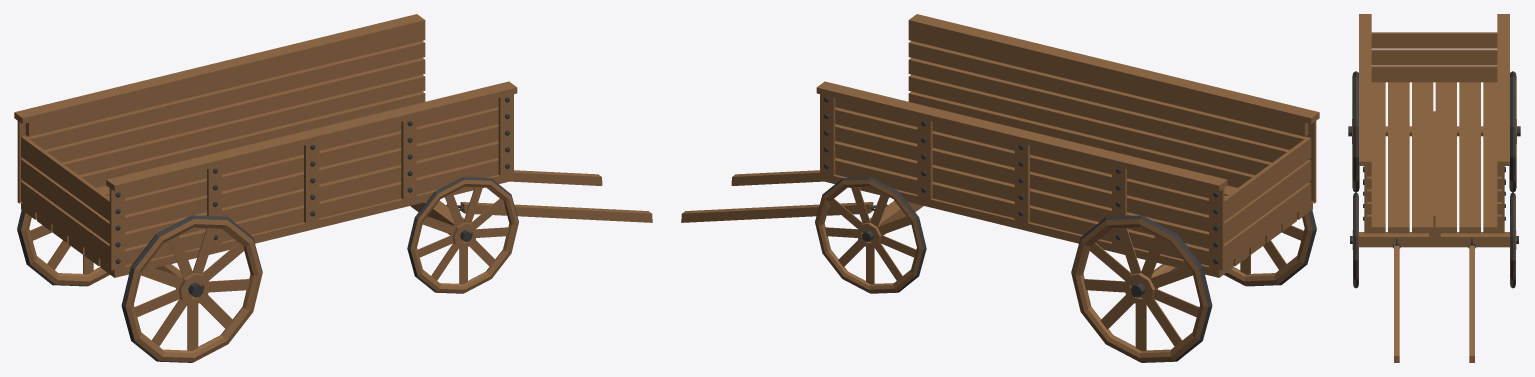
The model's file is wood_cart.fbx.
The picture shows the model from 3 angles, left to right: view 1: azimuth 30°, elevation 25°; view 2: azimuth 150°, elevation 25°; view 3: azimuth 270°, elevation 25°; orthographic projection. The views are drawn at different scales.
Visible parts, largest first — view 1: Plane; view 2: Plane; view 3: Plane.
Part boxes in pixels (<box>): Plane: <box>14,14,652,362</box>; Plane: <box>681,14,1319,362</box>; Plane: <box>1348,14,1520,362</box>.
Bounding box in the file's own units: 277 × 91.62 × 98.04.
